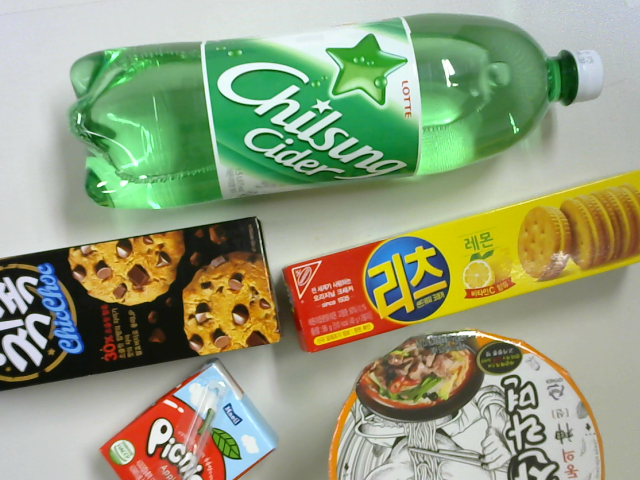Chicchok_Original_2400: (1, 214, 285, 400)
Chilseong_Cider_1.5L: (51, 12, 616, 229)
Hejangchan: (329, 327, 610, 480)
Picnic_Apple: (95, 358, 275, 480)
Ritz_Remon_96g: (277, 159, 640, 352)
